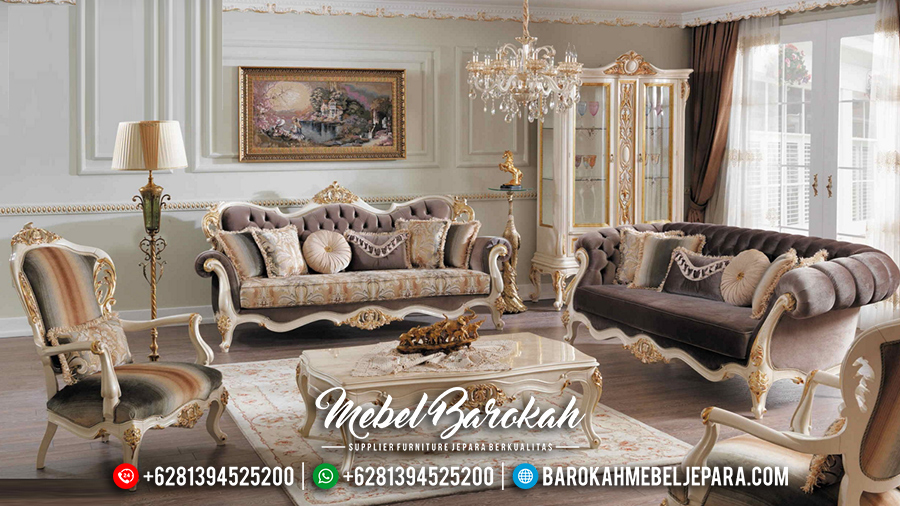Carving Chair: (564, 210, 884, 376), (23, 228, 233, 461), (211, 192, 512, 330)
Carving Table: (283, 335, 623, 454)
